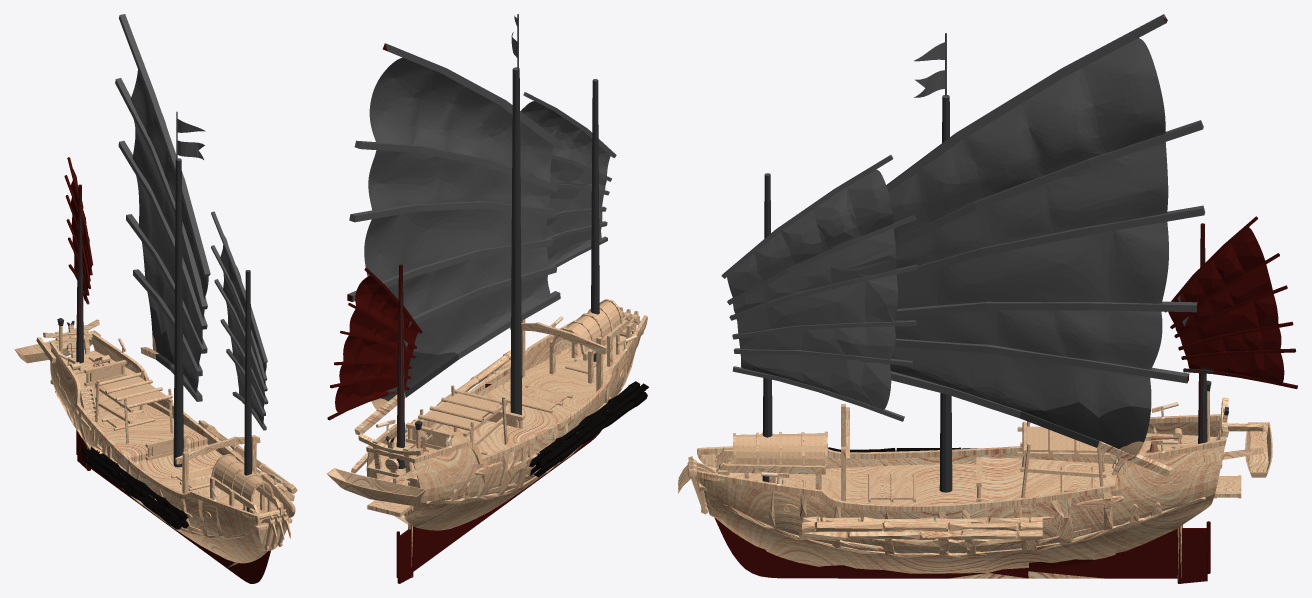
The picture shows the model from 3 angles, left to right: view 1: azimuth 30°, elevation 25°; view 2: azimuth 150°, elevation 25°; view 3: azimuth 270°, elevation 25°; orthographic projection. The views are drawn at different scales.
Parts seen in each view (by area): view 1: MED-BOAT, MED-BOAT.001, MED-BOAT.002; view 2: MED-BOAT, MED-BOAT.001, MED-BOAT.002; view 3: MED-BOAT, MED-BOAT.001, MED-BOAT.002.
Part boxes in pixels (x1,y1,x2,y2): MED-BOAT: (14,14,297,583); MED-BOAT.001: (131,70,208,392); MED-BOAT.002: (220,235,266,424); MED-BOAT: (326,14,648,583); MED-BOAT.001: (364,57,553,410); MED-BOAT.002: (521,101,610,264); MED-BOAT: (678,14,1297,583); MED-BOAT.001: (888,38,1168,455); MED-BOAT.002: (727,169,897,410).
Size of the model in its own units: 20.18 by 70.32 by 67.57.
5 materials, 1 textured.
